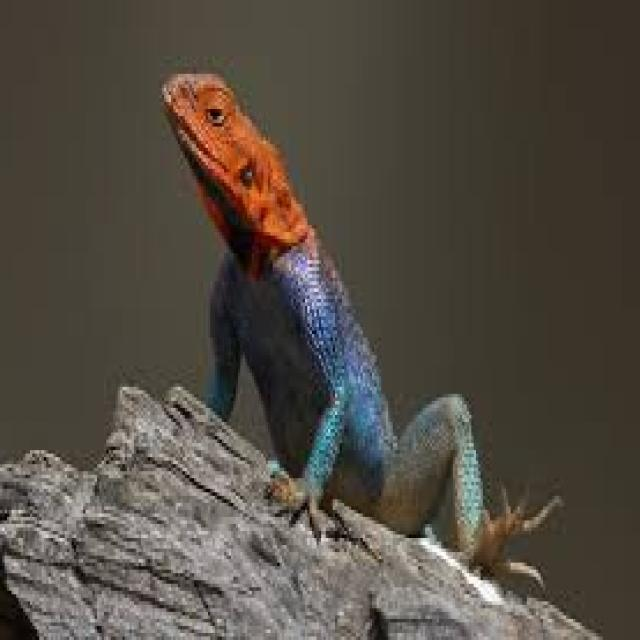lizard: (164, 74, 559, 580)
